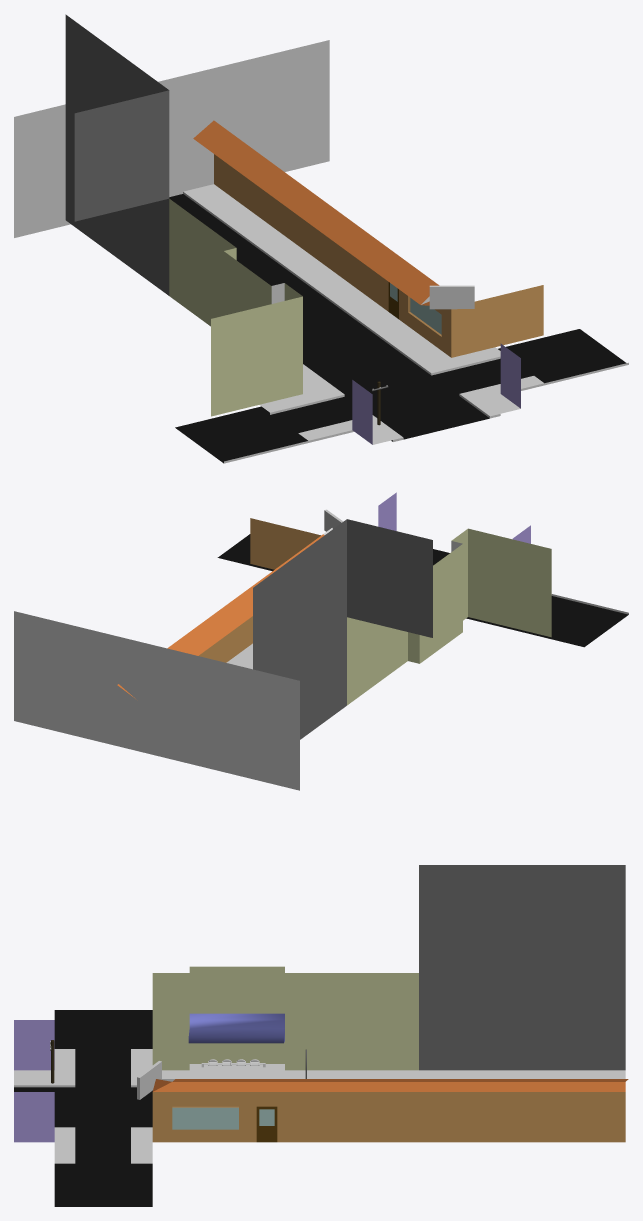
Rendered from Cenario 3(1).fbx.
The picture shows the model from 3 angles, top to bottom: view 1: azimuth 30°, elevation 25°; view 2: azimuth 150°, elevation 25°; view 3: azimuth 270°, elevation 25°; orthographic projection. The views are drawn at different scales.
Visible parts, largest first — view 1: Cenario; view 2: Cenario; view 3: Cenario.
Boxes of the visible parts, <box> form: Cenario: <box>14,14,628,463</box>; Cenario: <box>14,492,628,790</box>; Cenario: <box>14,865,628,1206</box>.
Bounding box in the file's own units: 293 × 146 × 386.
